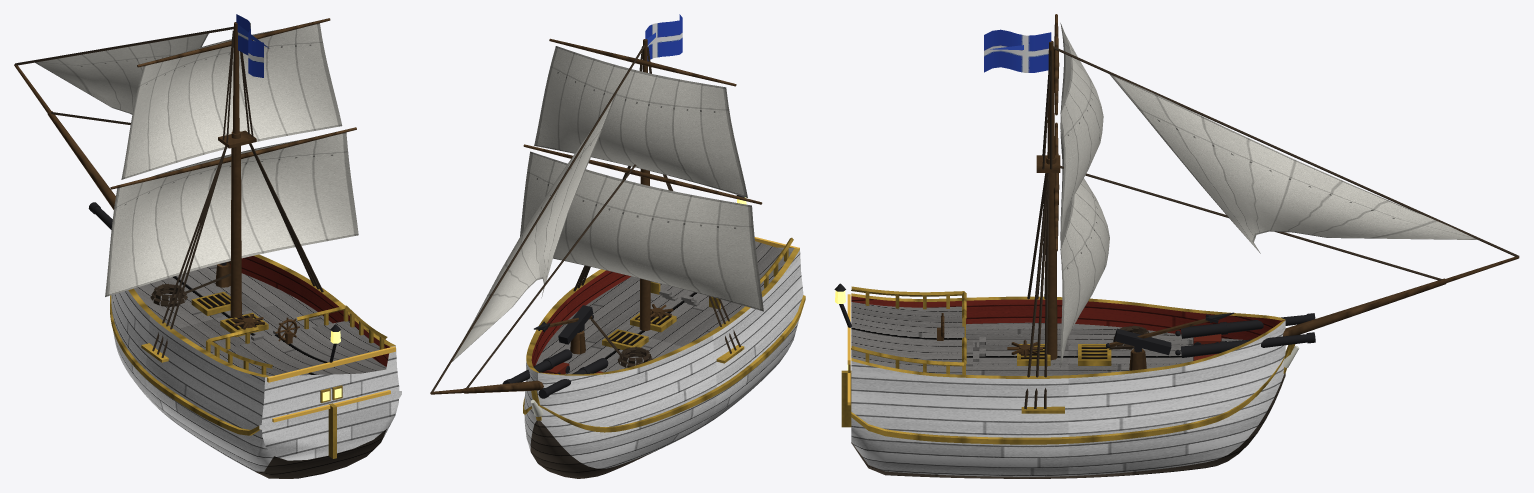
File: enemy_chaser.glb
The picture shows the model from 3 angles, left to right: view 1: azimuth 30°, elevation 25°; view 2: azimuth 150°, elevation 25°; view 3: azimuth 270°, elevation 25°; orthographic projection. The views are drawn at different scales.
Visible parts, largest first — view 1: Hull, Sail0_0, Sail0_1, Rigging, Jib, Flag; view 2: Hull, Sail0_0, Sail0_1, Jib, Rigging, Guns0, Flag; view 3: Hull, Jib, Rigging, Sail0_0, Sail0_1, Guns0, Flag.
Boxes of the visible parts, x1=… form: Hull: x1=110, y1=254, x2=401, y2=478; Sail0_0: x1=105, y1=132, x2=358, y2=296; Sail0_1: x1=121, y1=23, x2=342, y2=179; Rigging: x1=14, y1=18, x2=356, y2=357; Jib: x1=35, y1=33, x2=208, y2=114; Flag: x1=236, y1=14, x2=263, y2=77; Hull: x1=523, y1=195, x2=805, y2=478; Sail0_0: x1=520, y1=151, x2=763, y2=311; Sail0_1: x1=534, y1=46, x2=747, y2=197; Jib: x1=452, y1=93, x2=616, y2=361; Rigging: x1=430, y1=32, x2=762, y2=394; Guns0: x1=502, y1=349, x2=608, y2=398; Flag: x1=645, y1=14, x2=682, y2=60; Hull: x1=834, y1=283, x2=1299, y2=478; Jib: x1=1109, y1=74, x2=1477, y2=253; Rigging: x1=990, y1=14, x2=1519, y2=409; Sail0_0: x1=1060, y1=131, x2=1109, y2=367; Sail0_1: x1=1060, y1=23, x2=1103, y2=239; Guns0: x1=1175, y1=313, x2=1315, y2=360; Flag: x1=984, y1=29, x2=1051, y2=72.
Size of the model in its own units: 1.18 by 1.79 by 2.6.
17 materials, 8 textured.
